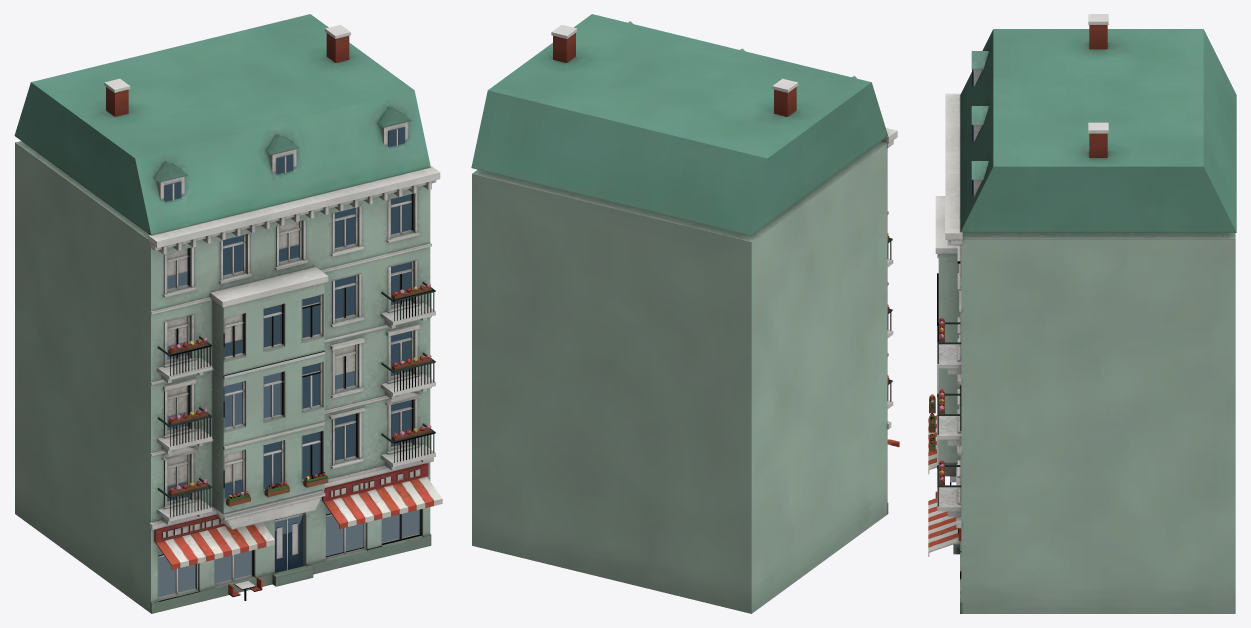
The model's file is getkong-hh6.glb.
The picture shows the model from 3 angles, left to right: view 1: azimuth 30°, elevation 25°; view 2: azimuth 150°, elevation 25°; view 3: azimuth 270°, elevation 25°; orthographic projection.
Parts seen in each view (by area): view 1: Haus; view 2: Haus; view 3: Haus.
Boxes of the visible parts, x1,y1,x2,y2 form: Haus: (14,14,442,613); Haus: (471,14,899,613); Haus: (928,14,1236,613).
Bounding box in the file's own units: 14.45 × 22.95 × 13.5.
4 materials, 1 textured.
